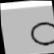no answer: (27, 19, 54, 48)
